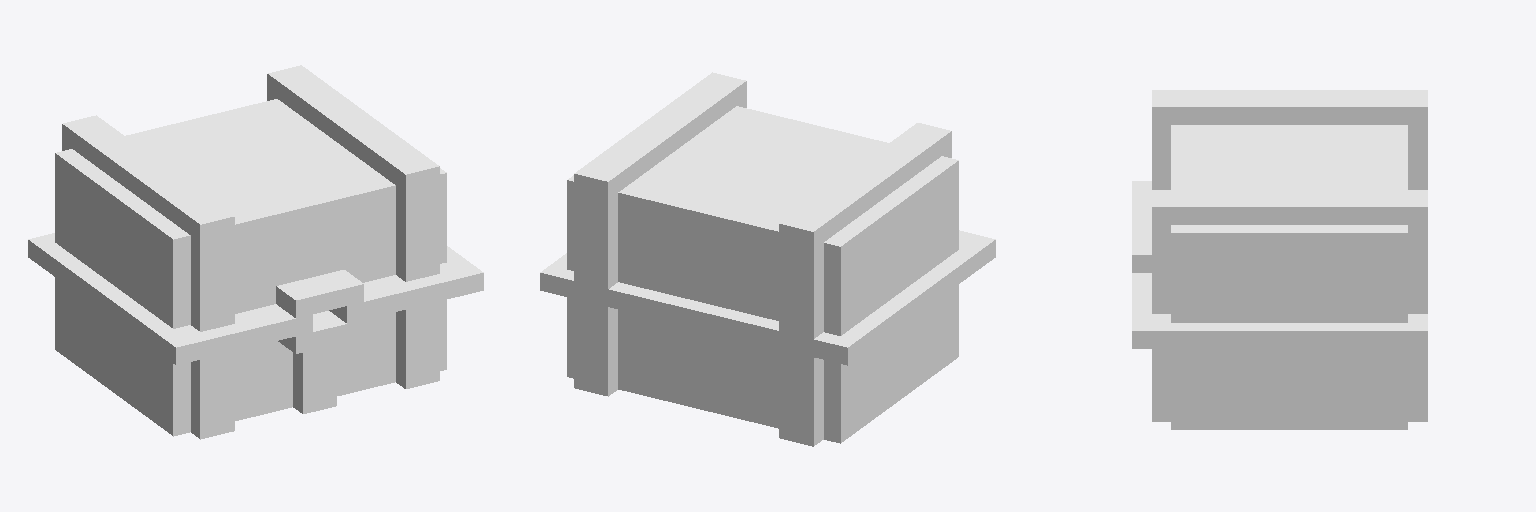
The model's file is Cofre_Cerrado.obj.
3 renders of one model, left to right at view 1: azimuth 30°, elevation 25°; view 2: azimuth 150°, elevation 25°; view 3: azimuth 270°, elevation 25°, orthographic.
Parts seen in each view (by area): view 1: object 1; view 2: object 1; view 3: object 1.
Boxes of the visible parts, <box> form: object 1: <box>28,65,483,439</box>; object 1: <box>540,72,995,446</box>; object 1: <box>1132,90,1427,429</box>.
Bounding box in the file's own units: 1.8 × 1.2 × 1.5.